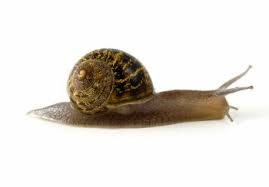snail: (22, 47, 256, 131)
